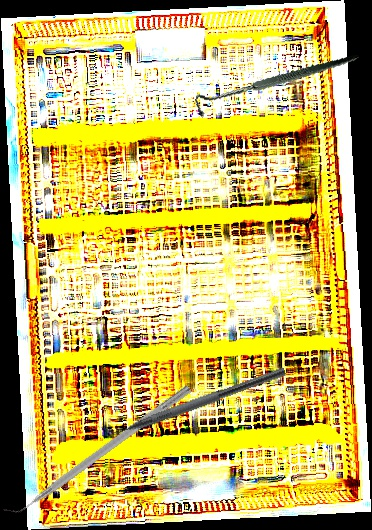Chopper: (0, 374, 192, 523), (95, 354, 287, 446)
Hook Surgical: (191, 24, 360, 147)
